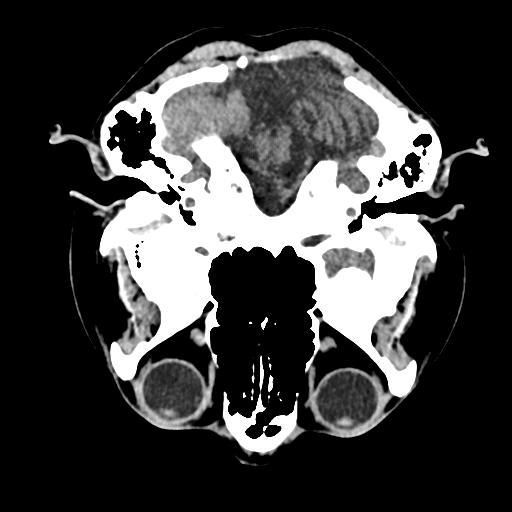Cancer: (210, 55, 361, 146)
